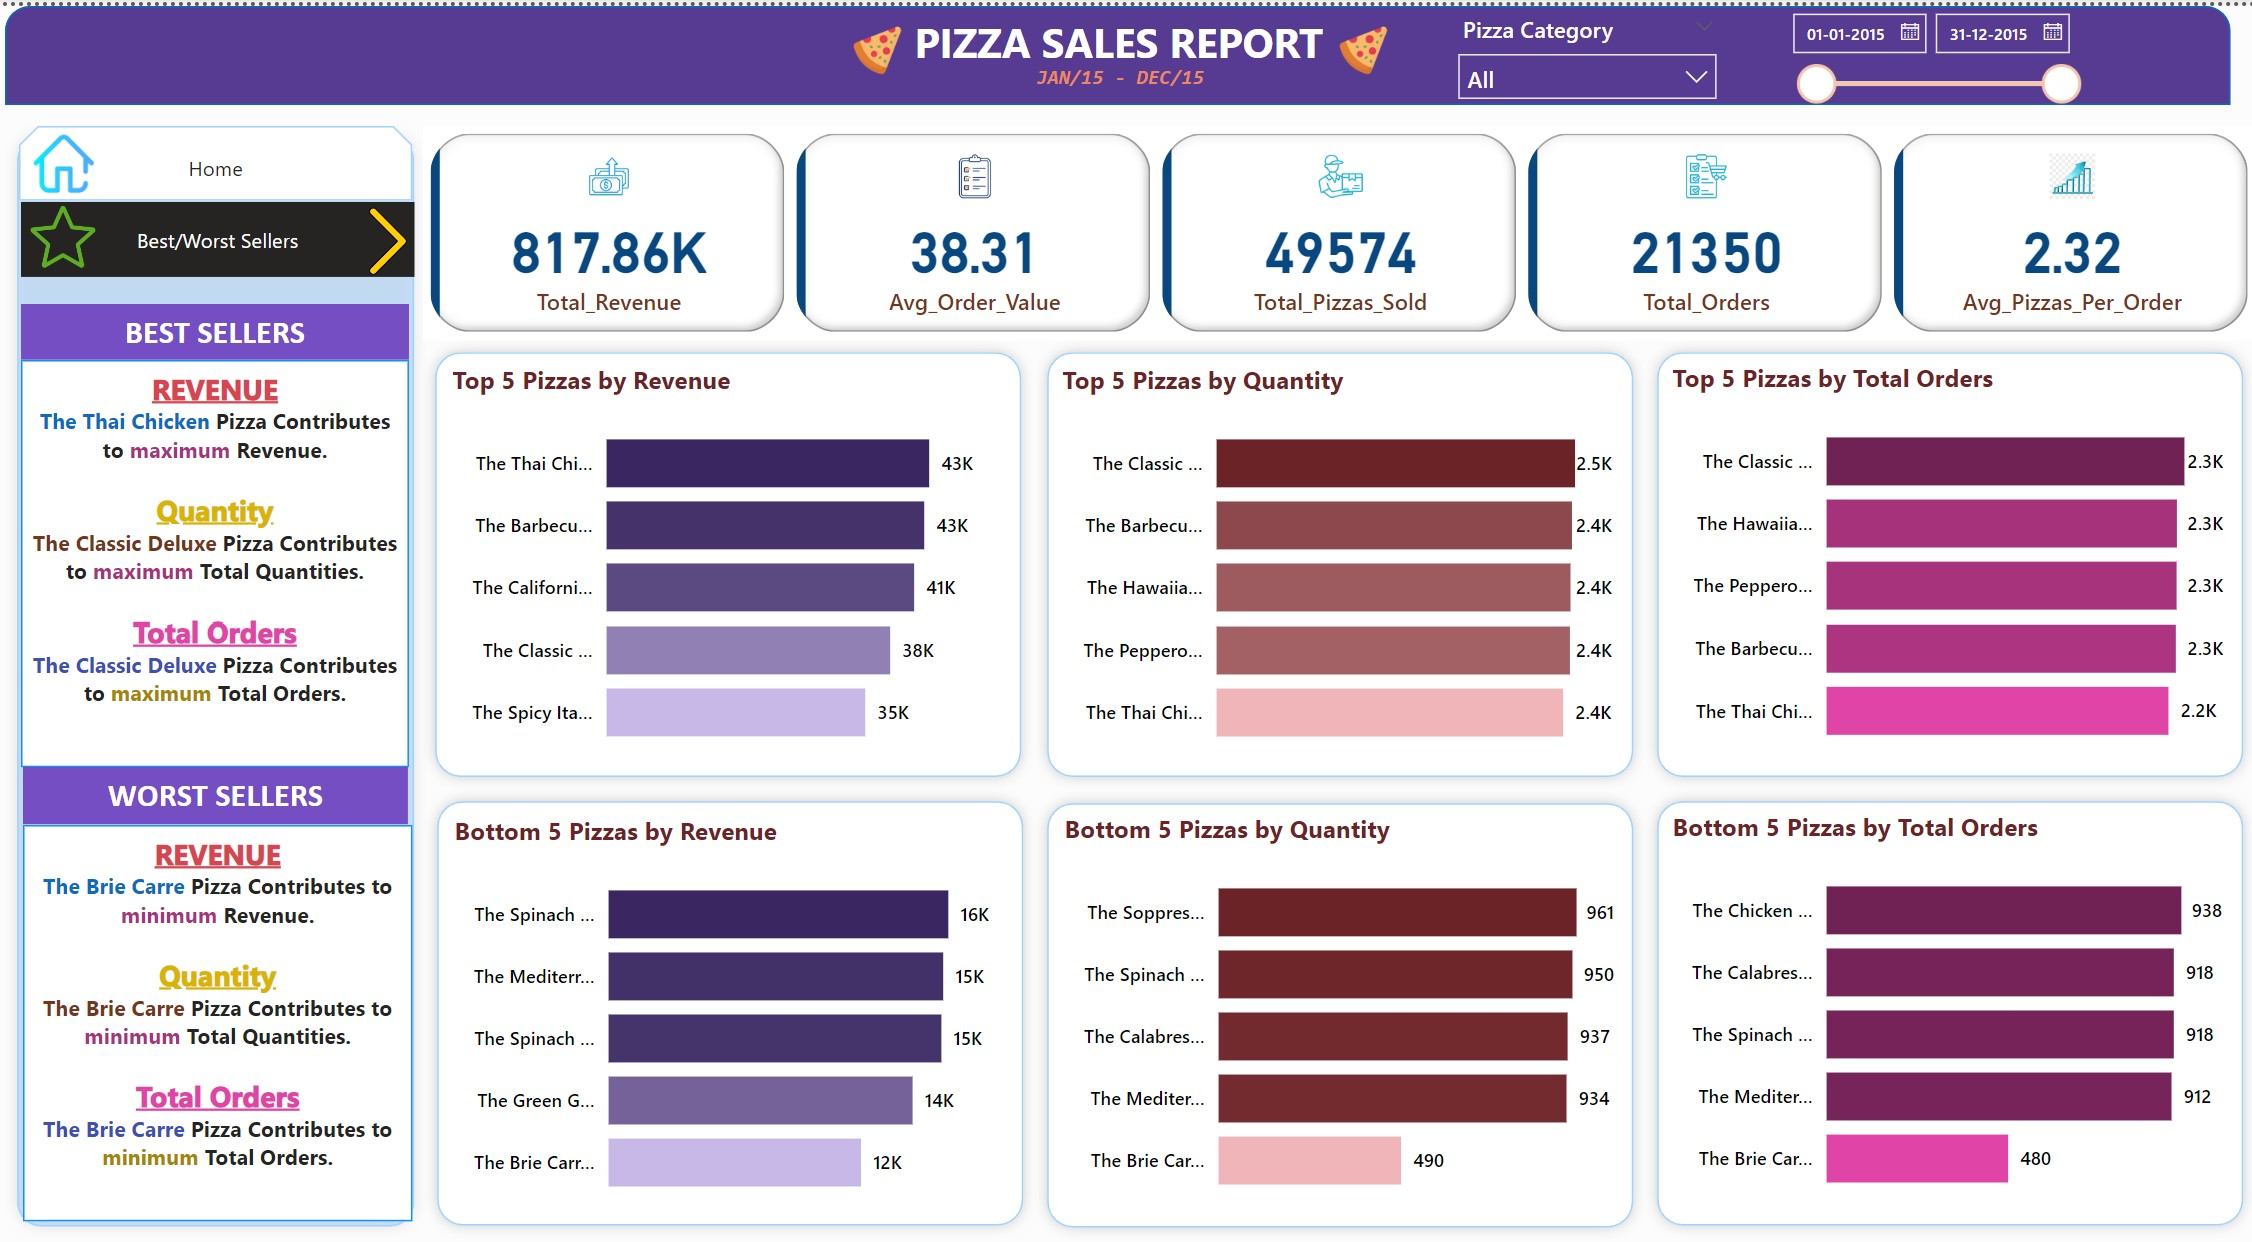

What the dashboard file says about the page in this screenshot:
{"tool":"powerbi","page":{"name":"Best/Worst Sellers","canvas":[1500,820],"ordinal":1},"visuals":[{"type":"shape","box":[19.4,77.7,276.4,730.6],"z":0},{"type":"cardVisual","fields":{"Data":["pizza_db pizza_sales.Total_Revenue","pizza_db pizza_sales.Avg_Order_Value","pizza_db pizza_sales.Total_Pizzas_Sold","pizza_db pizza_sales.Total_Orders","pizza_db pizza_sales.Avg_Pizzas_Per_Order"]},"box":[293.9,78.7,1205.7,140.4],"z":1000},{"type":"shape","box":[20,0,1460,65],"z":2000},{"type":"textbox","box":[590.9,0,319.7,48.5],"z":3000},{"type":"textbox","box":[662.1,31.8,177.3,34.8],"z":4000},{"type":"image","box":[560.6,7.6,63.6,42.4],"z":5000},{"type":"image","box":[878.8,7.6,63.6,42.4],"z":6000},{"type":"shape","box":[294.3,219.6,400.4,294],"z":7000},{"type":"textbox","box":[30.2,195.5,254.5,36.7],"z":8000},{"type":"textbox","box":[30.2,232.2,254.5,266.3],"z":9000},{"type":"textbox","box":[31.4,499,252.5,37.4],"z":10000},{"type":"textbox","box":[31.4,536.4,255.5,260],"z":11000},{"type":"slicer","fields":{"Values":["pizza_db pizza_sales.pizza_category"]},"box":[963.6,0,189.7,65.7],"z":12000},{"type":"slicer","fields":{"Values":["pizza_db pizza_sales.order_date"]},"box":[1184.8,0,200.2,65.7],"z":13000},{"type":"shape","box":[694.7,219.6,400.4,294],"z":14000},{"type":"shape","box":[1095.1,219.6,400.4,294],"z":15000},{"type":"shape","box":[295.8,512.5,400.4,294.3],"z":16000},{"type":"shape","box":[694.7,513.9,400.4,294.3],"z":17000},{"type":"shape","box":[1095.1,512.5,400.4,294.3],"z":18000},{"type":"barChart","title":"Top 5 Pizzas by Revenue","fields":{"Category":["pizza_db pizza_sales.pizza_name"],"Y":["pizza_db pizza_sales.Total_Revenue"]},"box":[308.6,233.3,373.2,267.3],"z":19000},{"type":"barChart","title":"Bottom 5 Pizzas by Revenue","fields":{"Category":["pizza_db pizza_sales.pizza_name"],"Y":["pizza_db pizza_sales.Total_Revenue"]},"box":[309.3,528.9,373.5,267.4],"z":20000},{"type":"barChart","title":"Top 5 Pizzas by Quantity","fields":{"Category":["pizza_db pizza_sales.pizza_name"],"Y":["pizza_db pizza_sales.Total_Pizzas_Sold"]},"box":[708.2,233.1,370.5,267.4],"z":21000},{"type":"barChart","title":"Bottom 5 Pizzas by Quantity","fields":{"Category":["pizza_db pizza_sales.pizza_name"],"Y":["pizza_db pizza_sales.Total_Pizzas_Sold"]},"box":[709.7,527.4,370.5,267.4],"z":22000},{"type":"barChart","title":"Top 5 Pizzas by Total Orders","fields":{"Category":["pizza_db pizza_sales.pizza_name"],"Y":["pizza_db pizza_sales.Total_Orders"]},"box":[1108.6,232.2,371.3,267.6],"z":23000},{"type":"barChart","title":"Bottom 5 Pizzas by Total Orders","fields":{"Category":["pizza_db pizza_sales.pizza_name"],"Y":["pizza_db pizza_sales.Total_Orders"]},"box":[1108.6,525.9,370.5,267.4],"z":24000},{"type":"pageNavigator","box":[29.9,128.5,258.5,49.3],"z":24001},{"type":"pageNavigator","box":[28.4,79.2,258.5,49.3],"z":24002},{"type":"image","box":[241.4,127.3,59,53.8],"z":24003},{"type":"image","box":[31.4,79.2,53.8,49.3],"z":24004},{"type":"image","box":[31.4,124,52.3,53.8],"z":24005}]}

Visuals, with their boxes in screenshot pixels (x1, y1, x2, y2), scaled from the page's 1500x820 canvas onto the 2252x1242 screenshot:
shape: box(29, 118, 444, 1224)
cardVisual - pizza_db pizza_sales.Total_Revenue x pizza_db pizza_sales.Avg_Order_Value: box(441, 119, 2251, 332)
shape: box(30, 0, 2222, 98)
textbox: box(887, 0, 1367, 73)
textbox: box(994, 48, 1260, 101)
image: box(842, 12, 937, 76)
image: box(1319, 12, 1415, 76)
shape: box(442, 333, 1043, 778)
textbox: box(45, 296, 427, 352)
textbox: box(45, 352, 427, 755)
textbox: box(47, 756, 426, 812)
textbox: box(47, 812, 431, 1206)
slicer - pizza_db pizza_sales.pizza_category: box(1447, 0, 1731, 100)
slicer - pizza_db pizza_sales.order_date: box(1779, 0, 2079, 100)
shape: box(1043, 333, 1644, 778)
shape: box(1644, 333, 2245, 778)
shape: box(444, 776, 1045, 1222)
shape: box(1043, 778, 1644, 1224)
shape: box(1644, 776, 2245, 1222)
"Top 5 Pizzas by Revenue" barChart: box(463, 353, 1024, 758)
"Bottom 5 Pizzas by Revenue" barChart: box(464, 801, 1025, 1206)
"Top 5 Pizzas by Quantity" barChart: box(1063, 353, 1619, 758)
"Bottom 5 Pizzas by Quantity" barChart: box(1065, 799, 1622, 1204)
"Top 5 Pizzas by Total Orders" barChart: box(1664, 352, 2222, 757)
"Bottom 5 Pizzas by Total Orders" barChart: box(1664, 797, 2221, 1202)
pageNavigator: box(45, 195, 433, 269)
pageNavigator: box(43, 120, 431, 195)
image: box(362, 193, 451, 274)
image: box(47, 120, 128, 195)
image: box(47, 188, 126, 269)
